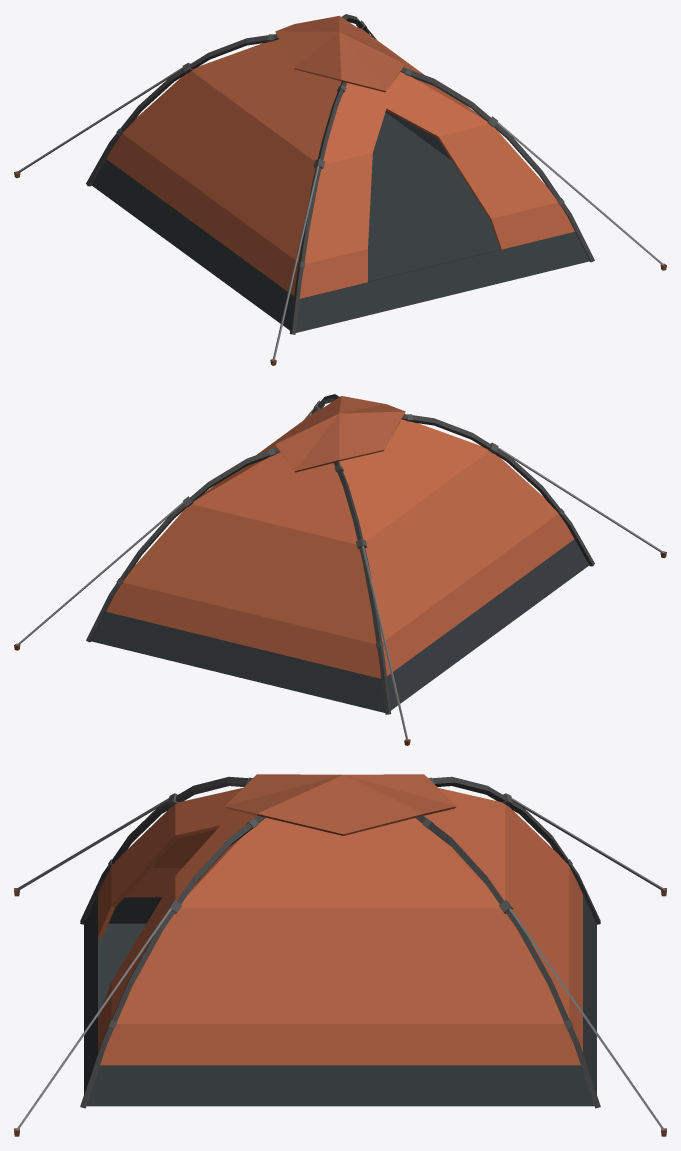
The model's file is Tent_03.fbx.
The picture shows the model from 3 angles, top to bottom: view 1: azimuth 30°, elevation 25°; view 2: azimuth 150°, elevation 25°; view 3: azimuth 270°, elevation 25°; orthographic projection. The views are drawn at different scales.
Visible parts, largest first — view 1: Tent_03; view 2: Tent_03; view 3: Tent_03.
Boxes of the visible parts, <box> form: Tent_03: <box>14,14,666,365</box>; Tent_03: <box>14,394,666,745</box>; Tent_03: <box>14,774,666,1136</box>.
Size of the model in its own units: 237 by 110 by 269.
